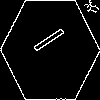I: (25, 25, 66, 60)
